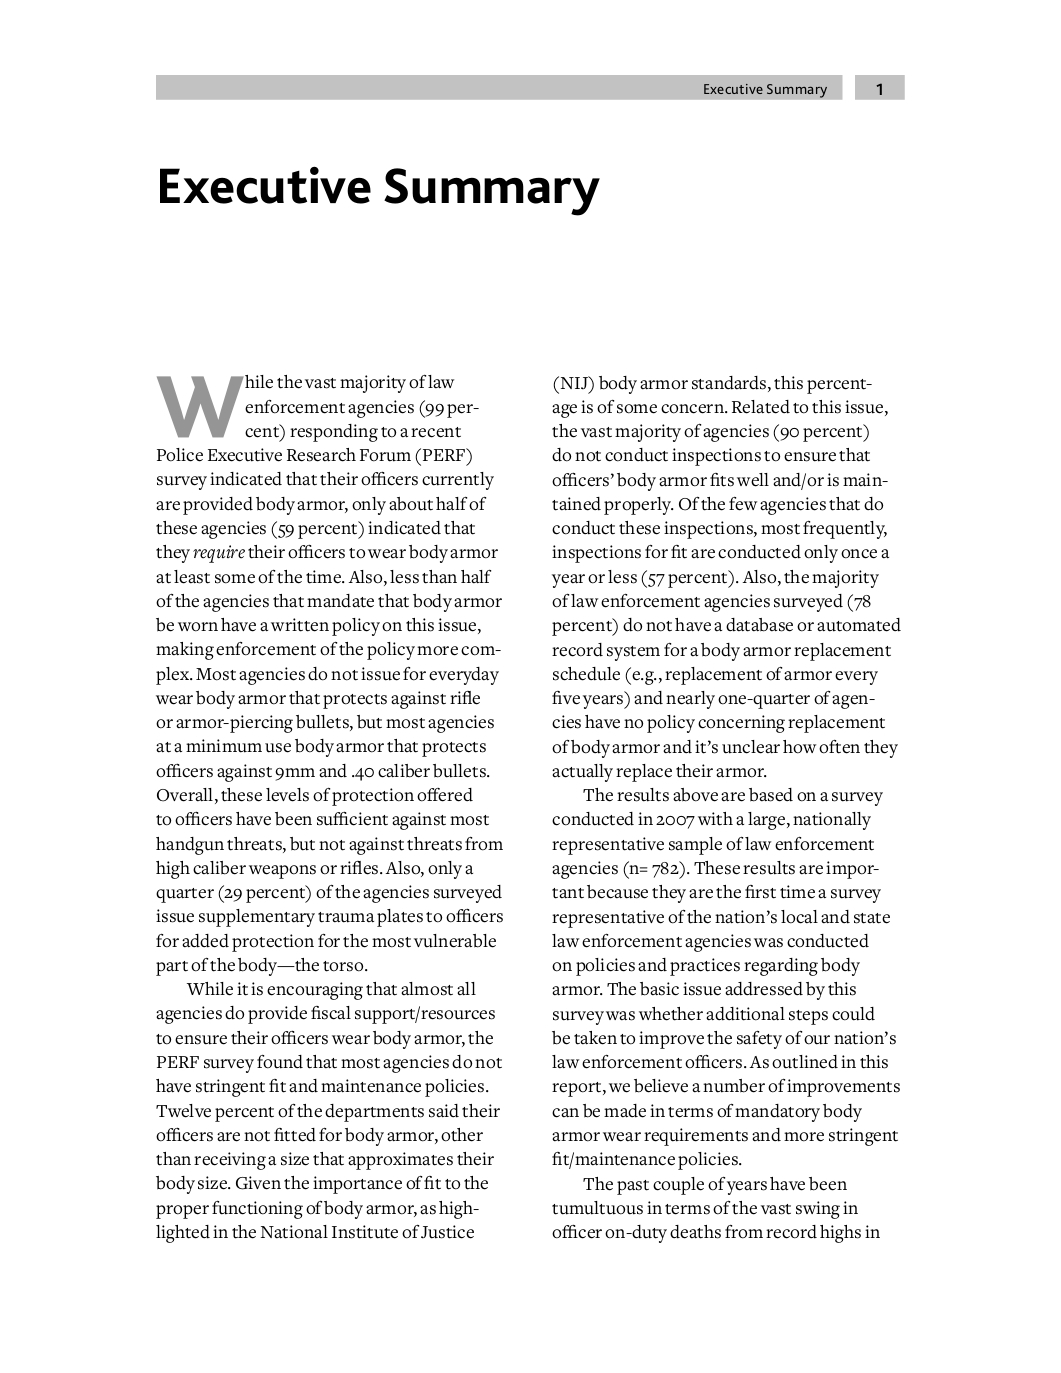figure: (156, 376, 243, 437)
